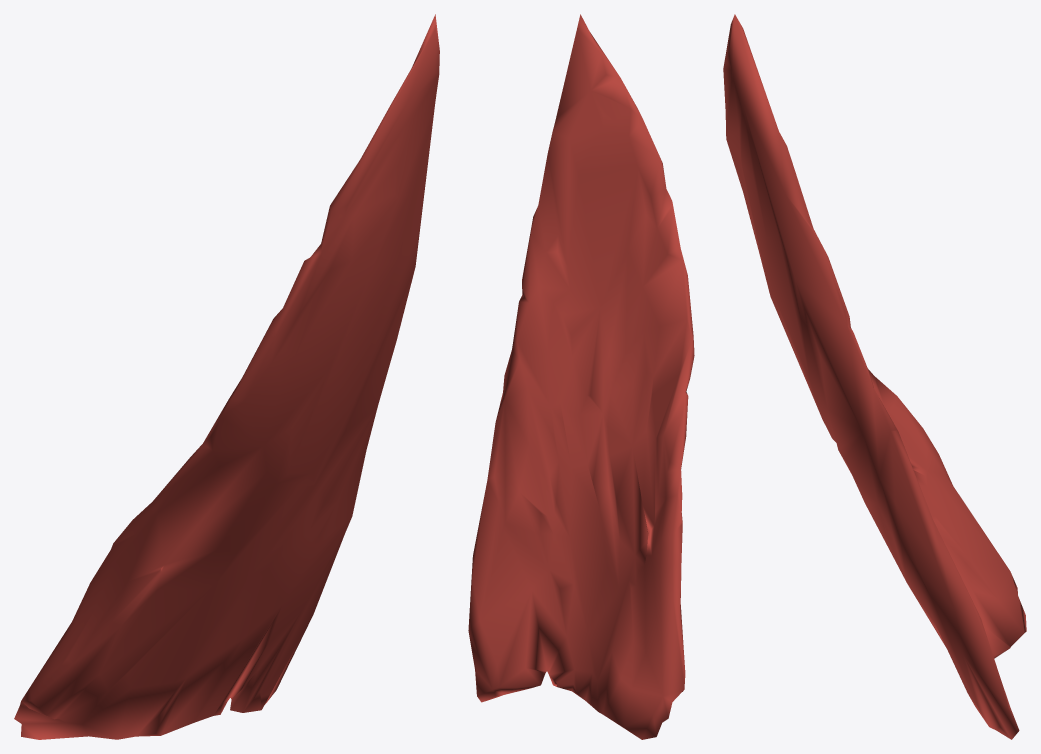
The model's file is musculos-pyramidalis-muscle-r.glb.
The picture shows the model from 3 angles, left to right: view 1: azimuth 30°, elevation 25°; view 2: azimuth 150°, elevation 25°; view 3: azimuth 270°, elevation 25°; orthographic projection. The views are drawn at different scales.
Parts seen in each view (by area): view 1: Pyramidalis muscle.r; view 2: Pyramidalis muscle.r; view 3: Pyramidalis muscle.r.
Boxes of the visible parts, left/top/right/bottom form: Pyramidalis muscle.r: left=14, top=14, right=439, bottom=739; Pyramidalis muscle.r: left=468, top=14, right=694, bottom=739; Pyramidalis muscle.r: left=723, top=14, right=1026, bottom=739.
Bounding box in the file's own units: 0.0279 × 0.0717 × 0.0268.
